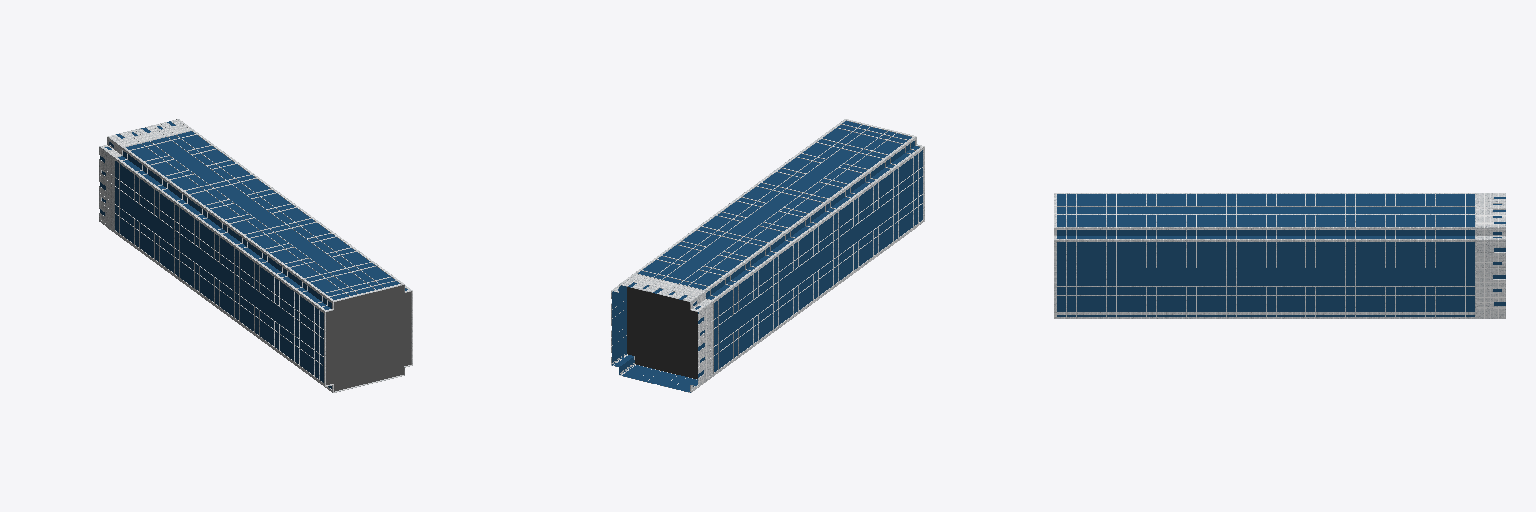
The picture shows the model from 3 angles: view 1: azimuth 30°, elevation 25°; view 2: azimuth 150°, elevation 25°; view 3: azimuth 270°, elevation 25°; orthographic projection.
Visible parts, largest first — view 1: glaz_01, slab_01, wall_02, wall_01; view 2: glaz_01, slab_1_01, wall_01, wall_02; view 3: glaz_01, wall_01, wall_02.
Boxes of the visible parts, x1=… form: glaz_01: x1=100, y1=121, x2=407, y2=388; slab_01: x1=326, y1=285, x2=410, y2=391; wall_02: x1=99, y1=120, x2=412, y2=392; wall_01: x1=99, y1=119, x2=410, y2=391; glaz_01: x1=612, y1=121, x2=922, y2=392; slab_1_01: x1=627, y1=287, x2=697, y2=378; wall_01: x1=611, y1=120, x2=922, y2=392; wall_02: x1=611, y1=119, x2=924, y2=391; glaz_01: x1=1057, y1=194, x2=1505, y2=316; wall_01: x1=1057, y1=193, x2=1505, y2=318; wall_02: x1=1054, y1=193, x2=1505, y2=318.
Size of the model in its own units: 892 by 892 by 3999.
4 materials, 1 textured.